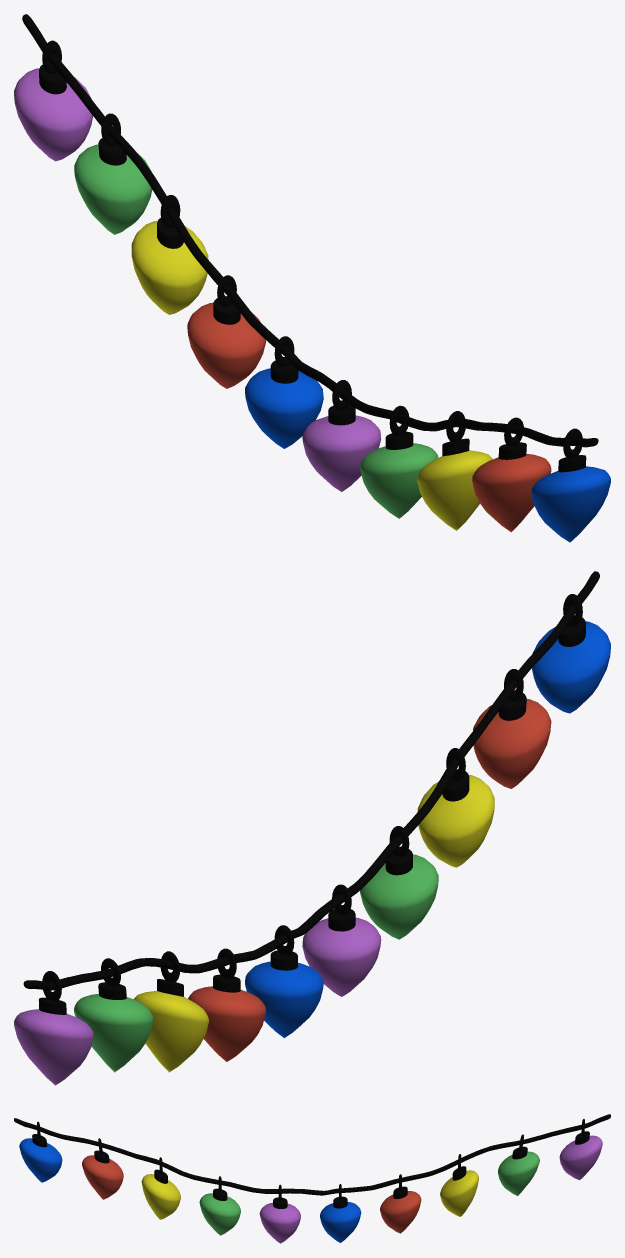
File: Guirlande.fbx
3 views of the same model, one above another, from view 1: azimuth 30°, elevation 25°; view 2: azimuth 150°, elevation 25°; view 3: azimuth 270°, elevation 25° (orthographic). The views are drawn at different scales.
Visible parts, largest first — view 1: pCone9; view 2: pCone9; view 3: pCone9.
Boxes of the visible parts, <box> form: pCone9: <box>14,14,610,542</box>; pCone9: <box>14,571,610,1085</box>; pCone9: <box>14,1114,610,1243</box>.
Bounding box in the file's own units: 1.72 × 5.93 × 24.83.
